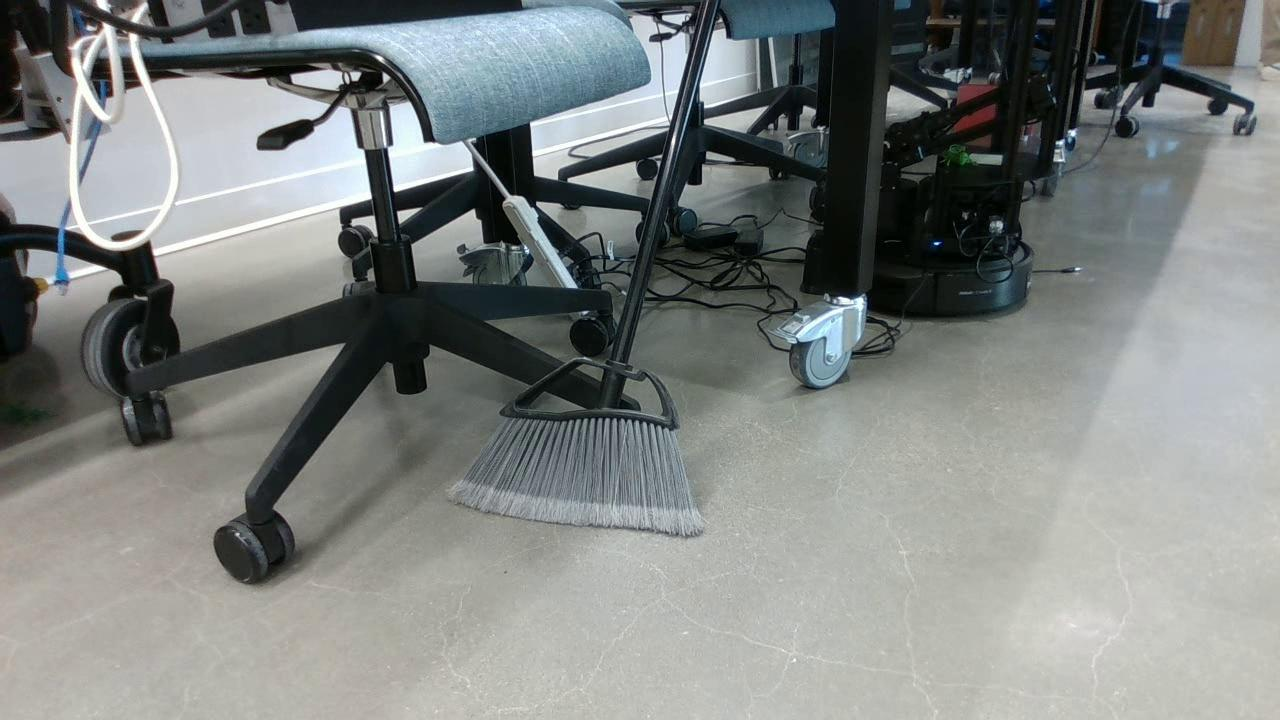grasshopper: (941, 146, 975, 169)
